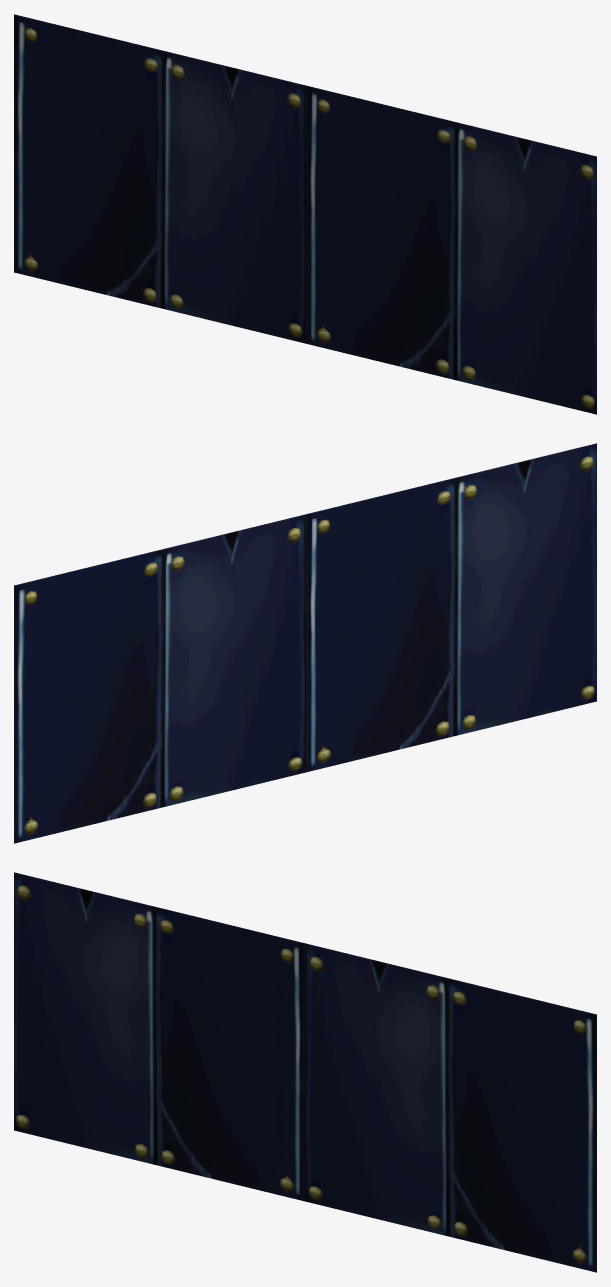
File: Polizei_Wand_A1_2576.glb
3 renders of one model, top to bottom at view 1: azimuth 90°, elevation 25°; view 2: azimuth 150°, elevation 25°; view 3: azimuth 270°, elevation 25°, orthographic.
Parts seen in each view (by area): view 1: pPlaneShape359; view 2: pPlaneShape359; view 3: pPlaneShape359.
Part boxes in pixels (left/top/right/bottom): pPlaneShape359: left=14, top=14, right=596, bottom=414; pPlaneShape359: left=14, top=443, right=596, bottom=843; pPlaneShape359: left=14, top=872, right=596, bottom=1272.
Size of the model in its own units: 0.4598 by 0.3891 by 0.7964.
1 material, 1 textured.
